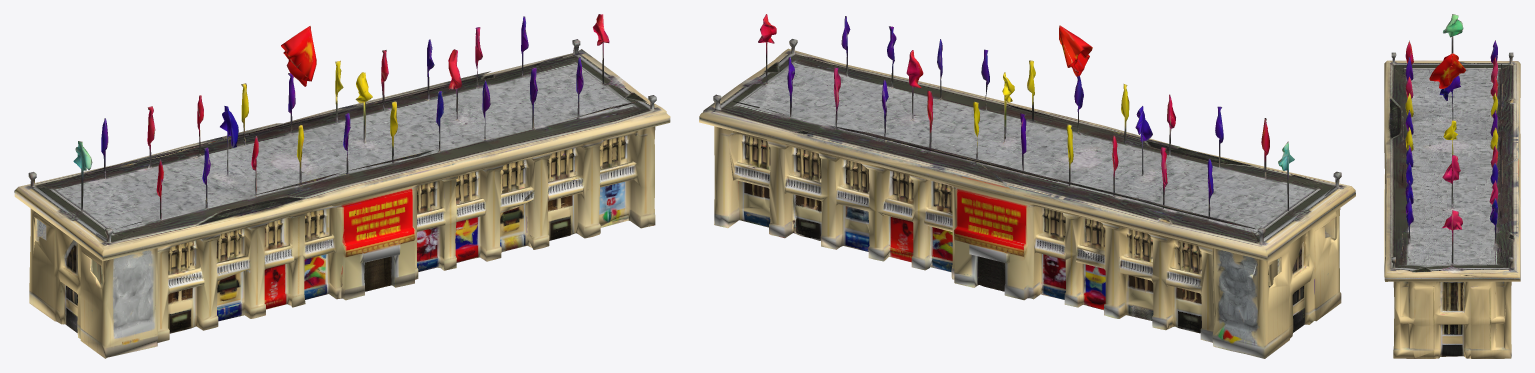
Rendered from trienlam.glb.
The picture shows the model from 3 angles, left to right: view 1: azimuth 30°, elevation 25°; view 2: azimuth 150°, elevation 25°; view 3: azimuth 270°, elevation 25°; orthographic projection. The views are drawn at different scales.
Parts seen in each view (by area): view 1: Mesh_0; view 2: Mesh_0; view 3: Mesh_0.
Part boxes in pixels (left/top/right/bottom): Mesh_0: left=14, top=14, right=670, bottom=358; Mesh_0: left=699, top=14, right=1355, bottom=358; Mesh_0: left=1384, top=14, right=1520, bottom=358.
Size of the model in its own units: 1.9 by 0.7898 by 0.5122.
Materials: 1 (1 with a texture image).
